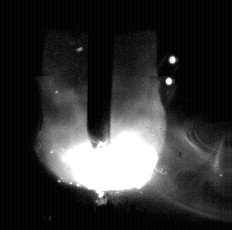arame: (88, 0, 112, 148)
poca: (37, 0, 162, 230)
